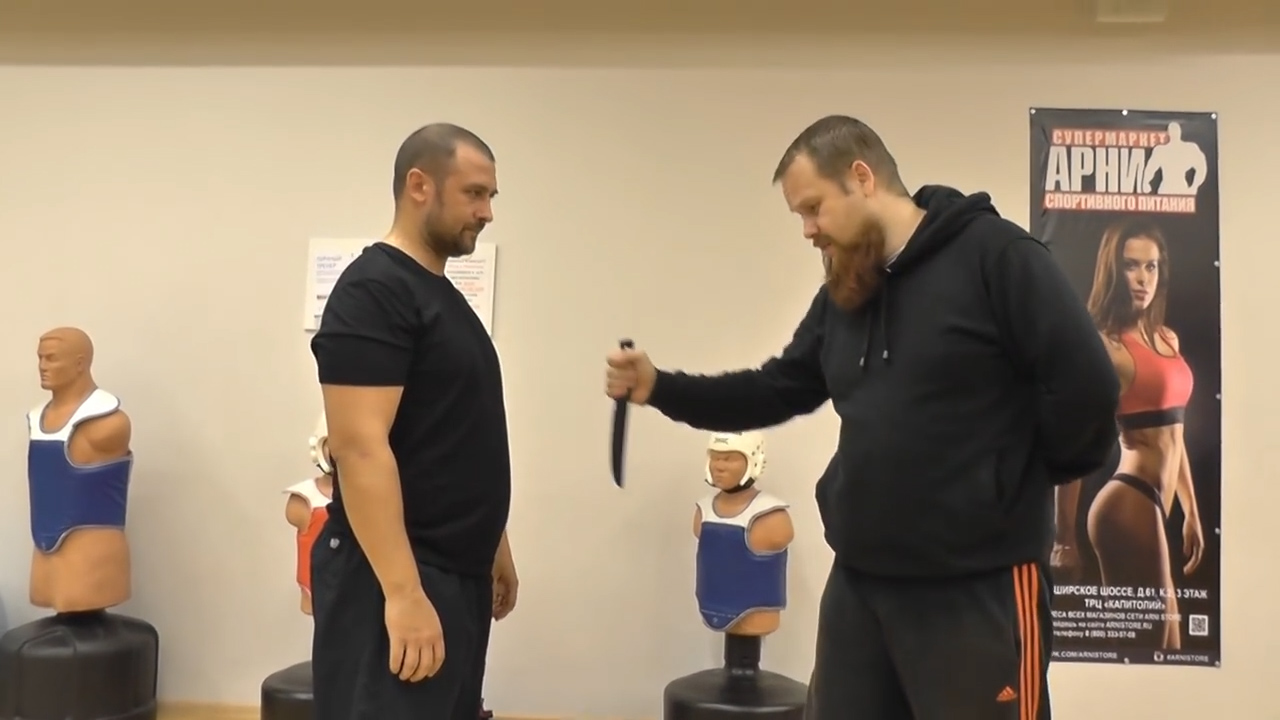knife: (595, 332, 644, 495)
